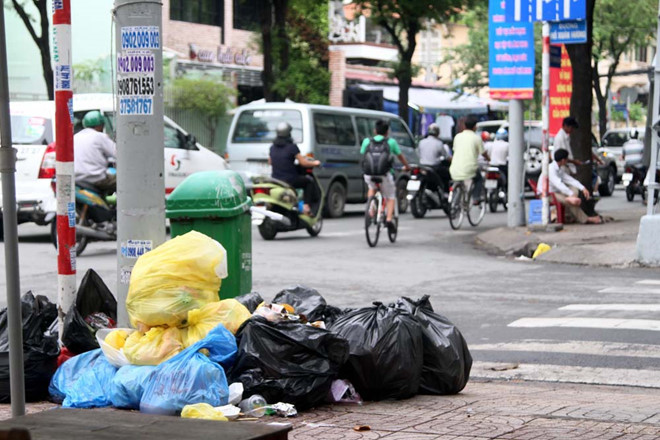plastic bag: (1, 231, 472, 423)
